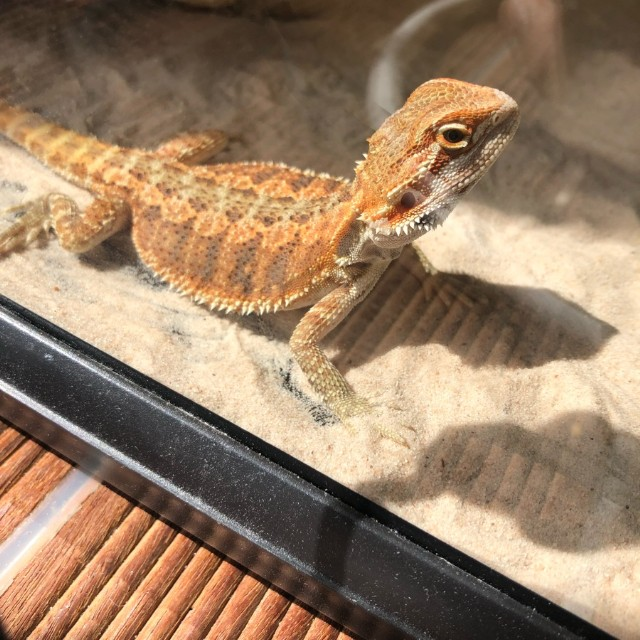bearded: (1, 75, 524, 425)
